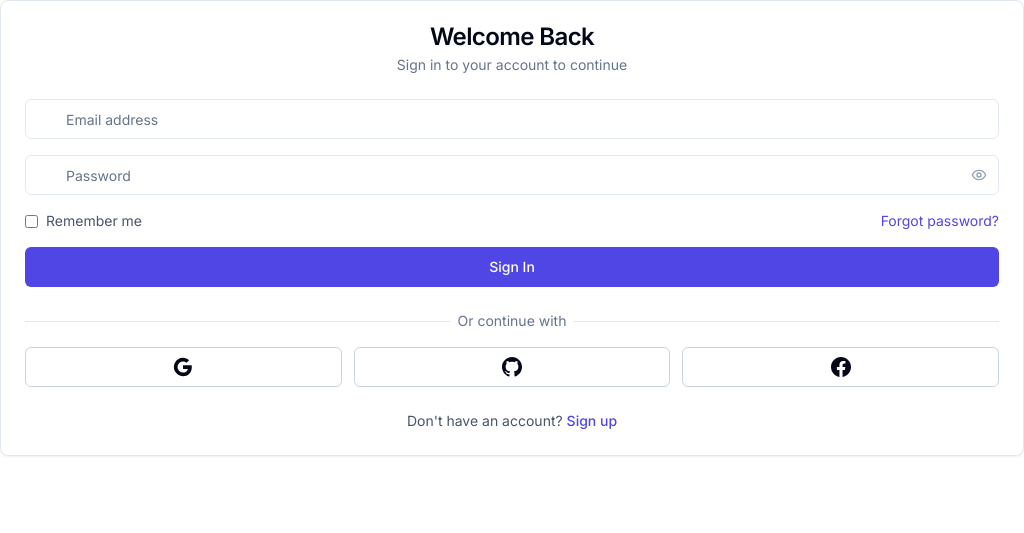
LoginPage › form submission › displays server error message
Type "test@example.com" into the field with placeholder "Email address" at (512,119), box [25,99,999,139]
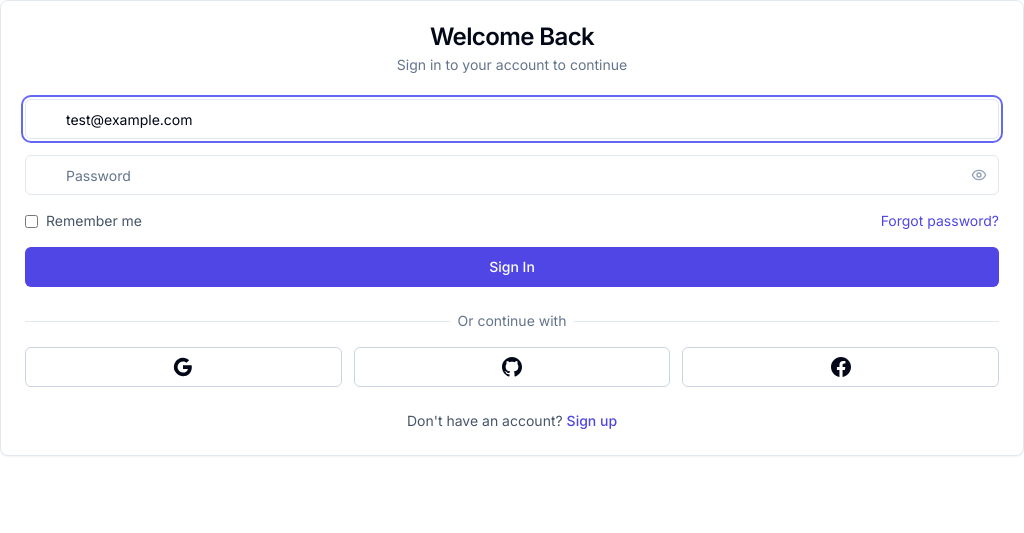
Type "wrongpassword" into the password field with placeholder "Password" at (512,175), box [25,155,999,195]
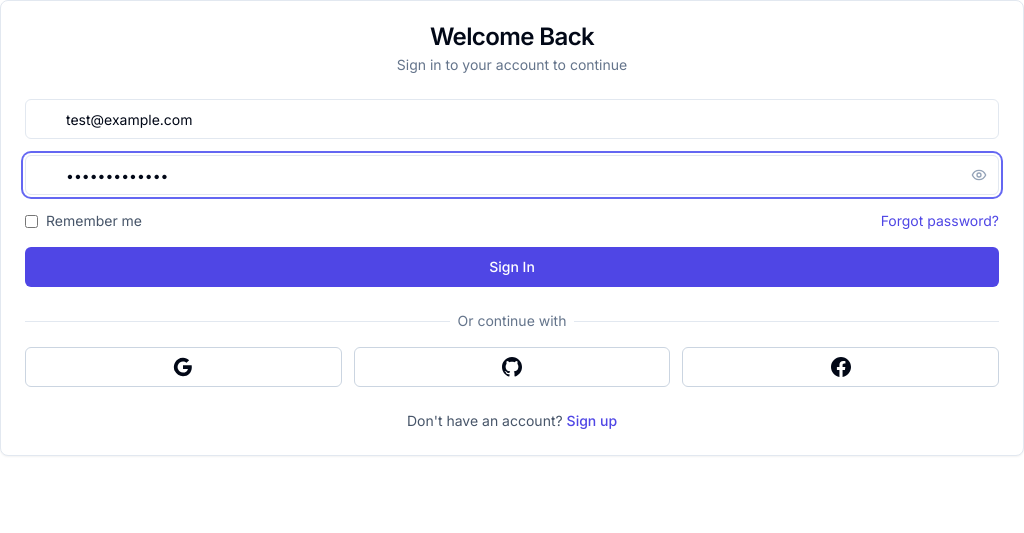
Click the button "Sign In" at (512,267), box [25,247,999,287]
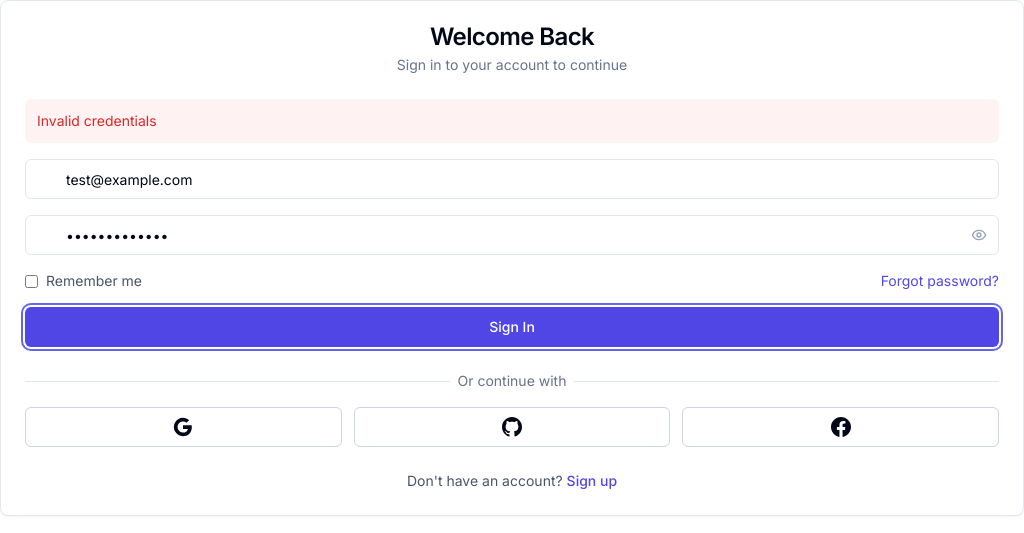
Now the text "Invalid credentials" is shown, box [25,99,999,143]
